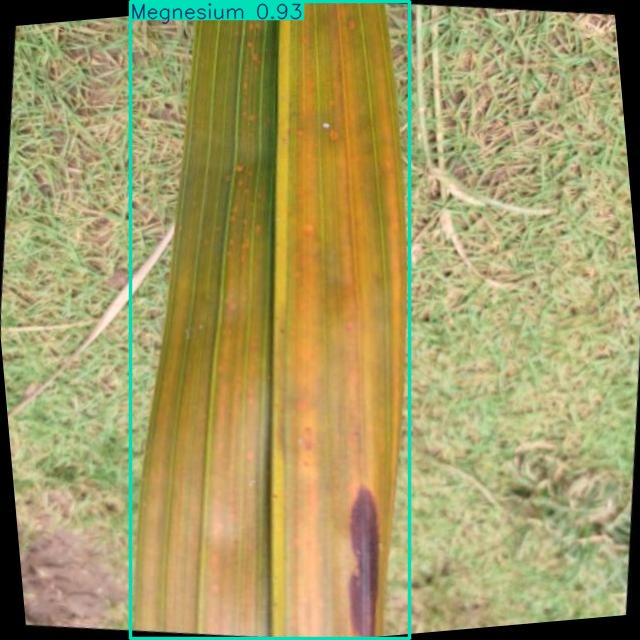Megnesium: (130, 1, 409, 639)
